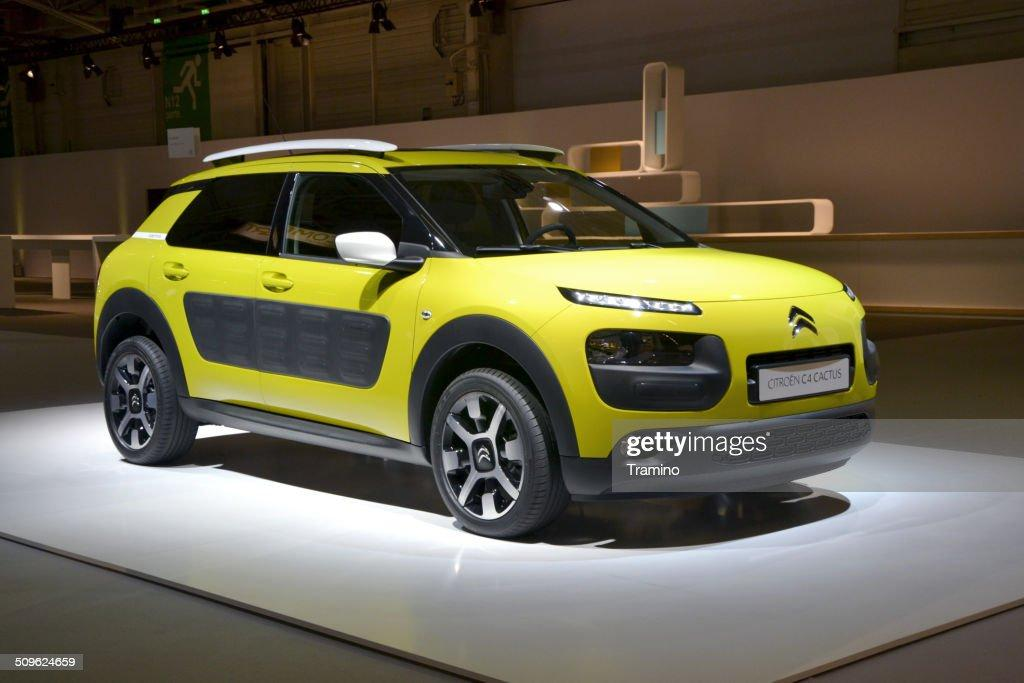Citroen: (773, 292, 834, 351)
